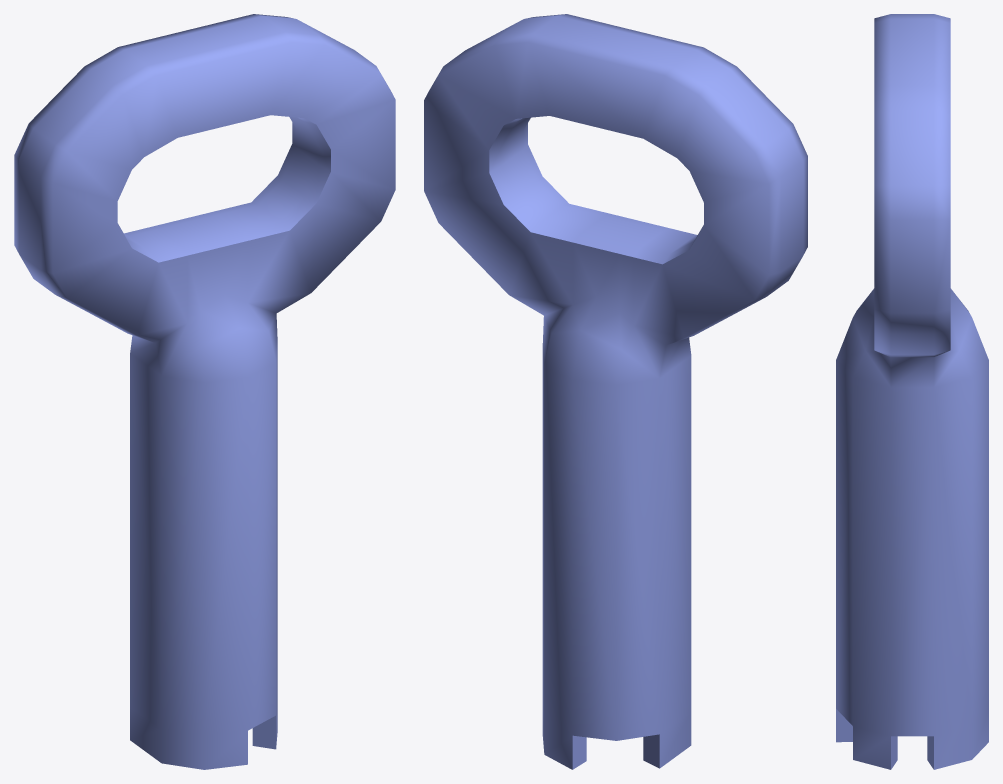
The model's file is Keys_35.FBX.
The picture shows the model from 3 angles, left to right: view 1: azimuth 30°, elevation 25°; view 2: azimuth 150°, elevation 25°; view 3: azimuth 270°, elevation 25°; orthographic projection.
Visible parts, largest first — view 1: Keys_35; view 2: Keys_35; view 3: Keys_35.
Part boxes in pixels (x1,y1,x2,y2): Keys_35: (14,14,395,769); Keys_35: (424,14,807,769); Keys_35: (836,14,988,769).
Size of the model in its own units: 1.22 by 2.31 by 0.4661.
